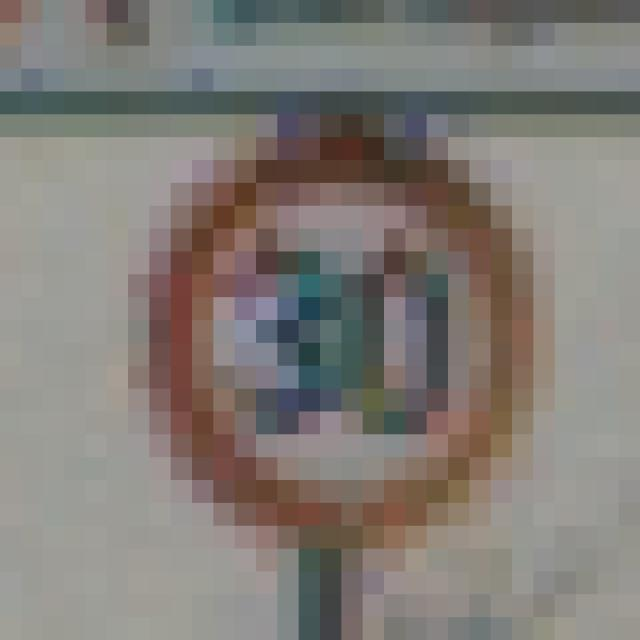Speed Limit -30-: (117, 102, 523, 514)
